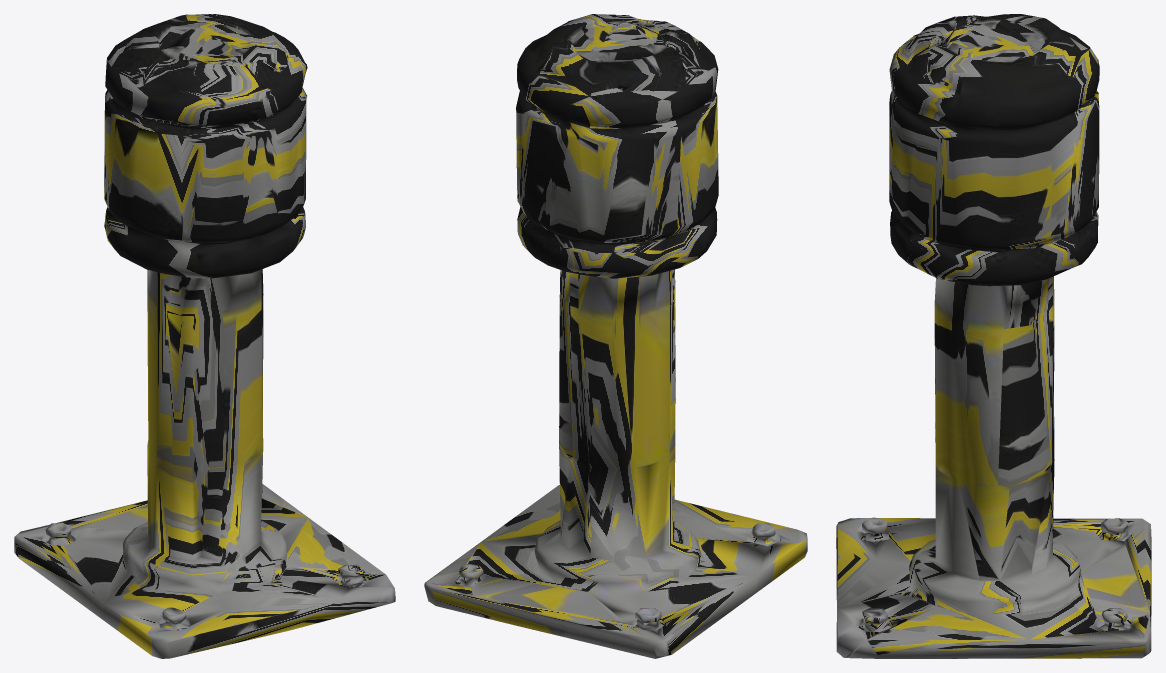
File: seesaw_stop.glb
The picture shows the model from 3 angles, left to right: view 1: azimuth 30°, elevation 25°; view 2: azimuth 150°, elevation 25°; view 3: azimuth 270°, elevation 25°; orthographic projection. The views are drawn at different scales.
Parts seen in each view (by area): view 1: tripo_node_fcea59fe-31c1-4309-9351-5669a7af2e2c; view 2: tripo_node_fcea59fe-31c1-4309-9351-5669a7af2e2c; view 3: tripo_node_fcea59fe-31c1-4309-9351-5669a7af2e2c.
Boxes of the visible parts, x1,y1,x2,y2 form: tripo_node_fcea59fe-31c1-4309-9351-5669a7af2e2c: (14, 14, 395, 658); tripo_node_fcea59fe-31c1-4309-9351-5669a7af2e2c: (424, 14, 807, 658); tripo_node_fcea59fe-31c1-4309-9351-5669a7af2e2c: (836, 14, 1151, 658).
Size of the model in its own units: 0.4671 by 0.999 by 0.5061.
Materials: 1 (1 with a texture image).
